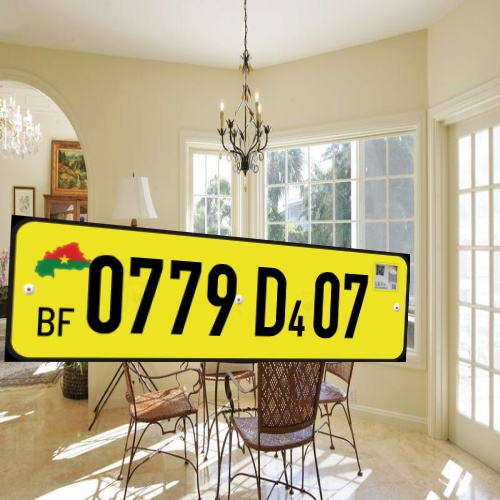plate: (3, 207, 427, 376)
